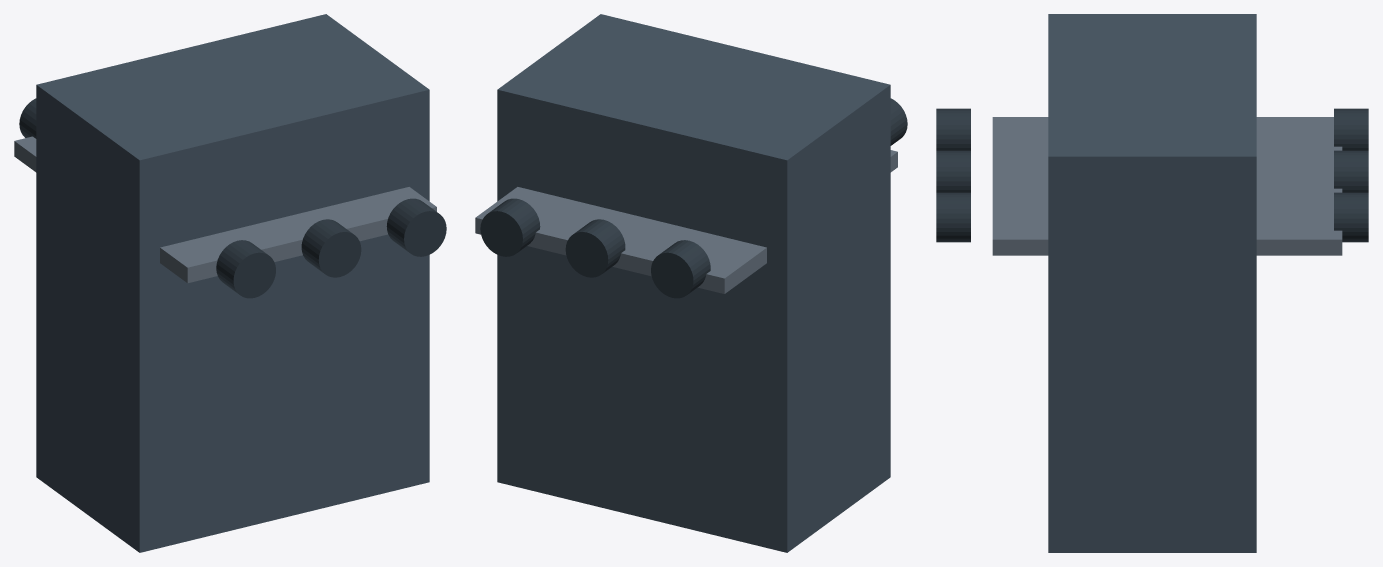
The model's file is aux_relay.glb.
3 views of the same model, side by side, from view 1: azimuth 30°, elevation 25°; view 2: azimuth 150°, elevation 25°; view 3: azimuth 270°, elevation 25° (orthographic).
Parts seen in each view (by area): view 1: aux_relay_0, aux_relay_1, aux_relay_3, aux_relay_7, aux_relay_5, aux_relay_4; view 2: aux_relay_0, aux_relay_1, aux_relay_6, aux_relay_4, aux_relay_8, aux_relay_3; view 3: aux_relay_0, aux_relay_1, aux_relay_7, aux_relay_8, aux_relay_3, aux_relay_5, aux_relay_4, aux_relay_6.
Boxes of the visible parts, box(x1,y1,x2,y2) form: aux_relay_0: box(36, 14, 429, 552); aux_relay_1: box(14, 136, 436, 283); aux_relay_3: box(216, 240, 275, 298); aux_relay_7: box(386, 198, 446, 256); aux_relay_5: box(301, 219, 361, 277); aux_relay_4: box(19, 98, 36, 138); aux_relay_0: box(497, 14, 890, 552); aux_relay_1: box(475, 150, 897, 293); aux_relay_6: box(565, 219, 625, 277); aux_relay_4: box(651, 240, 710, 298); aux_relay_8: box(480, 198, 540, 256); aux_relay_3: box(890, 98, 907, 145); aux_relay_0: box(1048, 14, 1256, 552); aux_relay_1: box(992, 117, 1342, 255); aux_relay_7: box(936, 192, 970, 242); aux_relay_8: box(1334, 192, 1368, 242); aux_relay_3: box(936, 108, 970, 150); aux_relay_5: box(936, 150, 970, 192); aux_relay_4: box(1334, 108, 1368, 150); aux_relay_6: box(1334, 150, 1368, 192).
Bounding box in the file's own units: 0.68 × 0.88 × 0.87.
